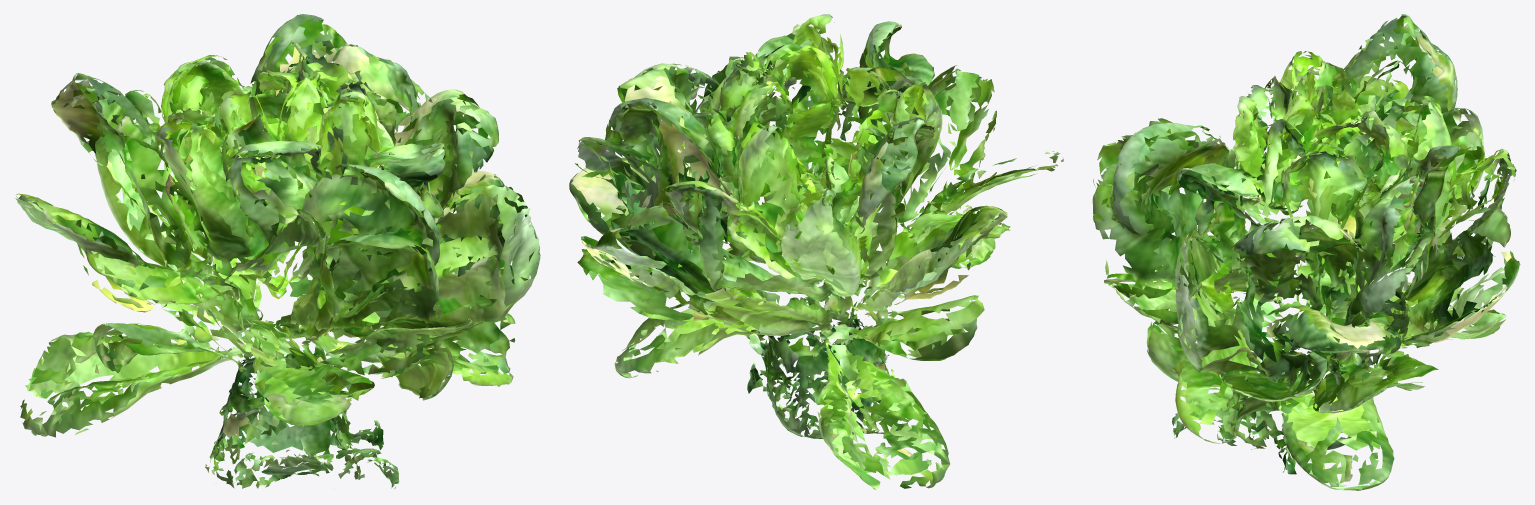
File: Vegetable.fbx
3 renders of one model, left to right at view 1: azimuth 30°, elevation 25°; view 2: azimuth 150°, elevation 25°; view 3: azimuth 270°, elevation 25°, orthographic. The views are drawn at different scales.
Visible parts, largest first — view 1: Vegetable; view 2: Vegetable; view 3: Vegetable.
Part boxes in pixels (bbox=[...]): Vegetable: bbox=[15, 14, 540, 488]; Vegetable: bbox=[569, 14, 1063, 489]; Vegetable: bbox=[1092, 14, 1520, 490].
Bounding box in the file's own units: 21.84 × 18.06 × 19.45.
Materials: 1 (1 with a texture image).
